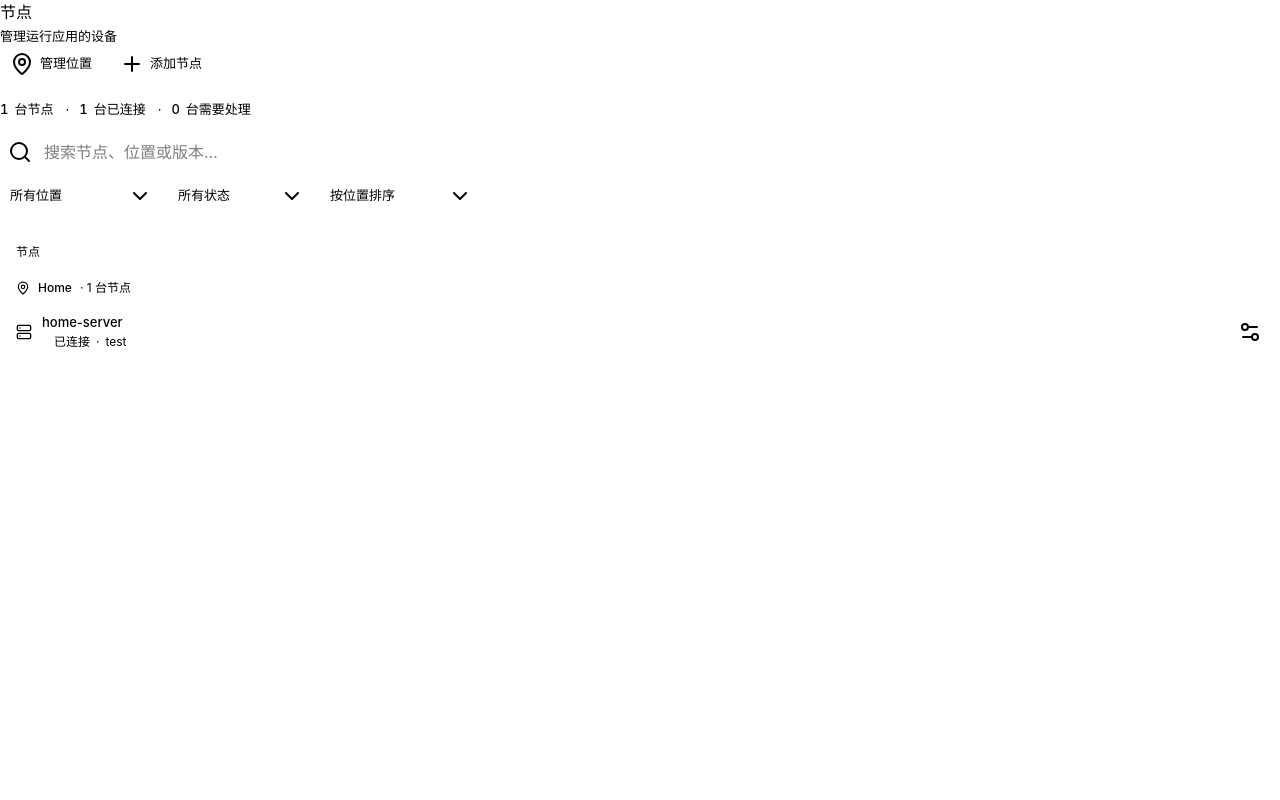
Test: landing-only node enrollment › renders node settings with SheetBody and a destructive footer action
Click the button named "管理 home-server": click(1250, 332) [1236,318,1264,346]
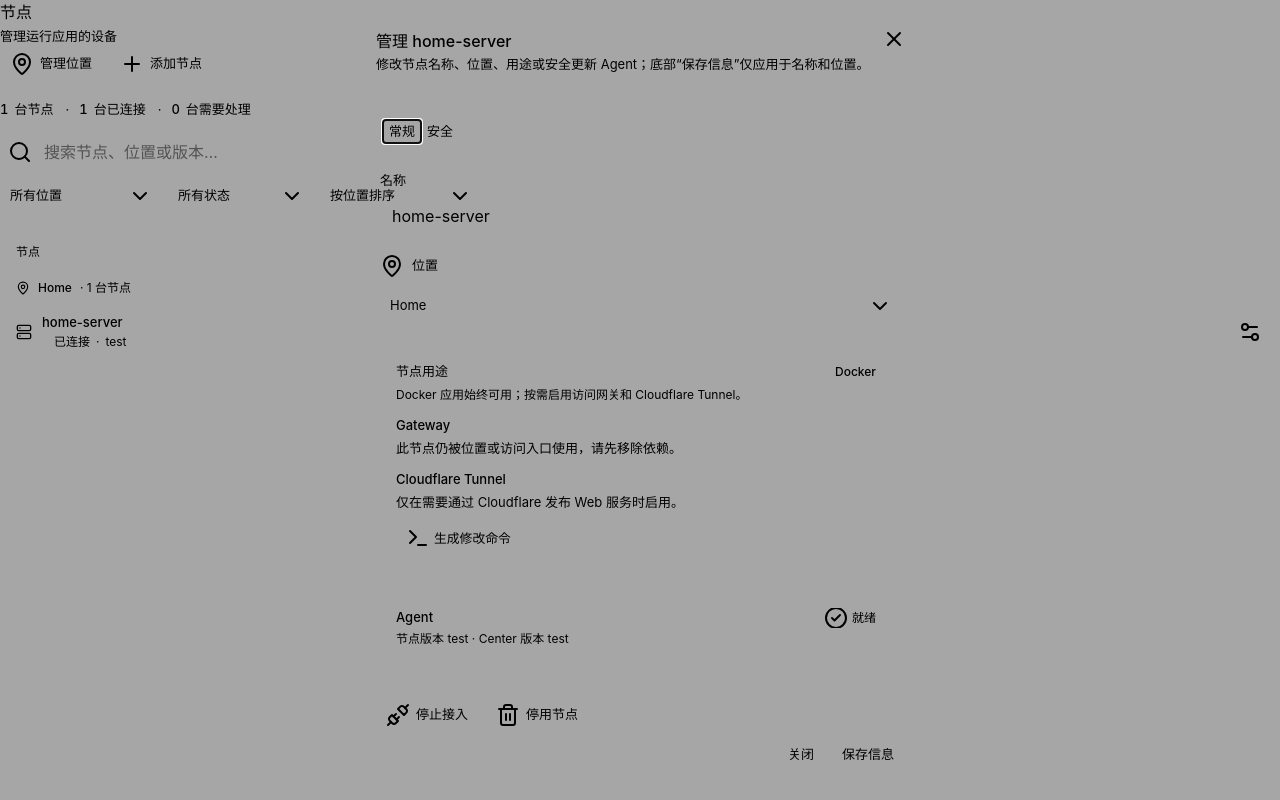
Expected: the element that starts with "Home" is shown, [360,156,920,683]
